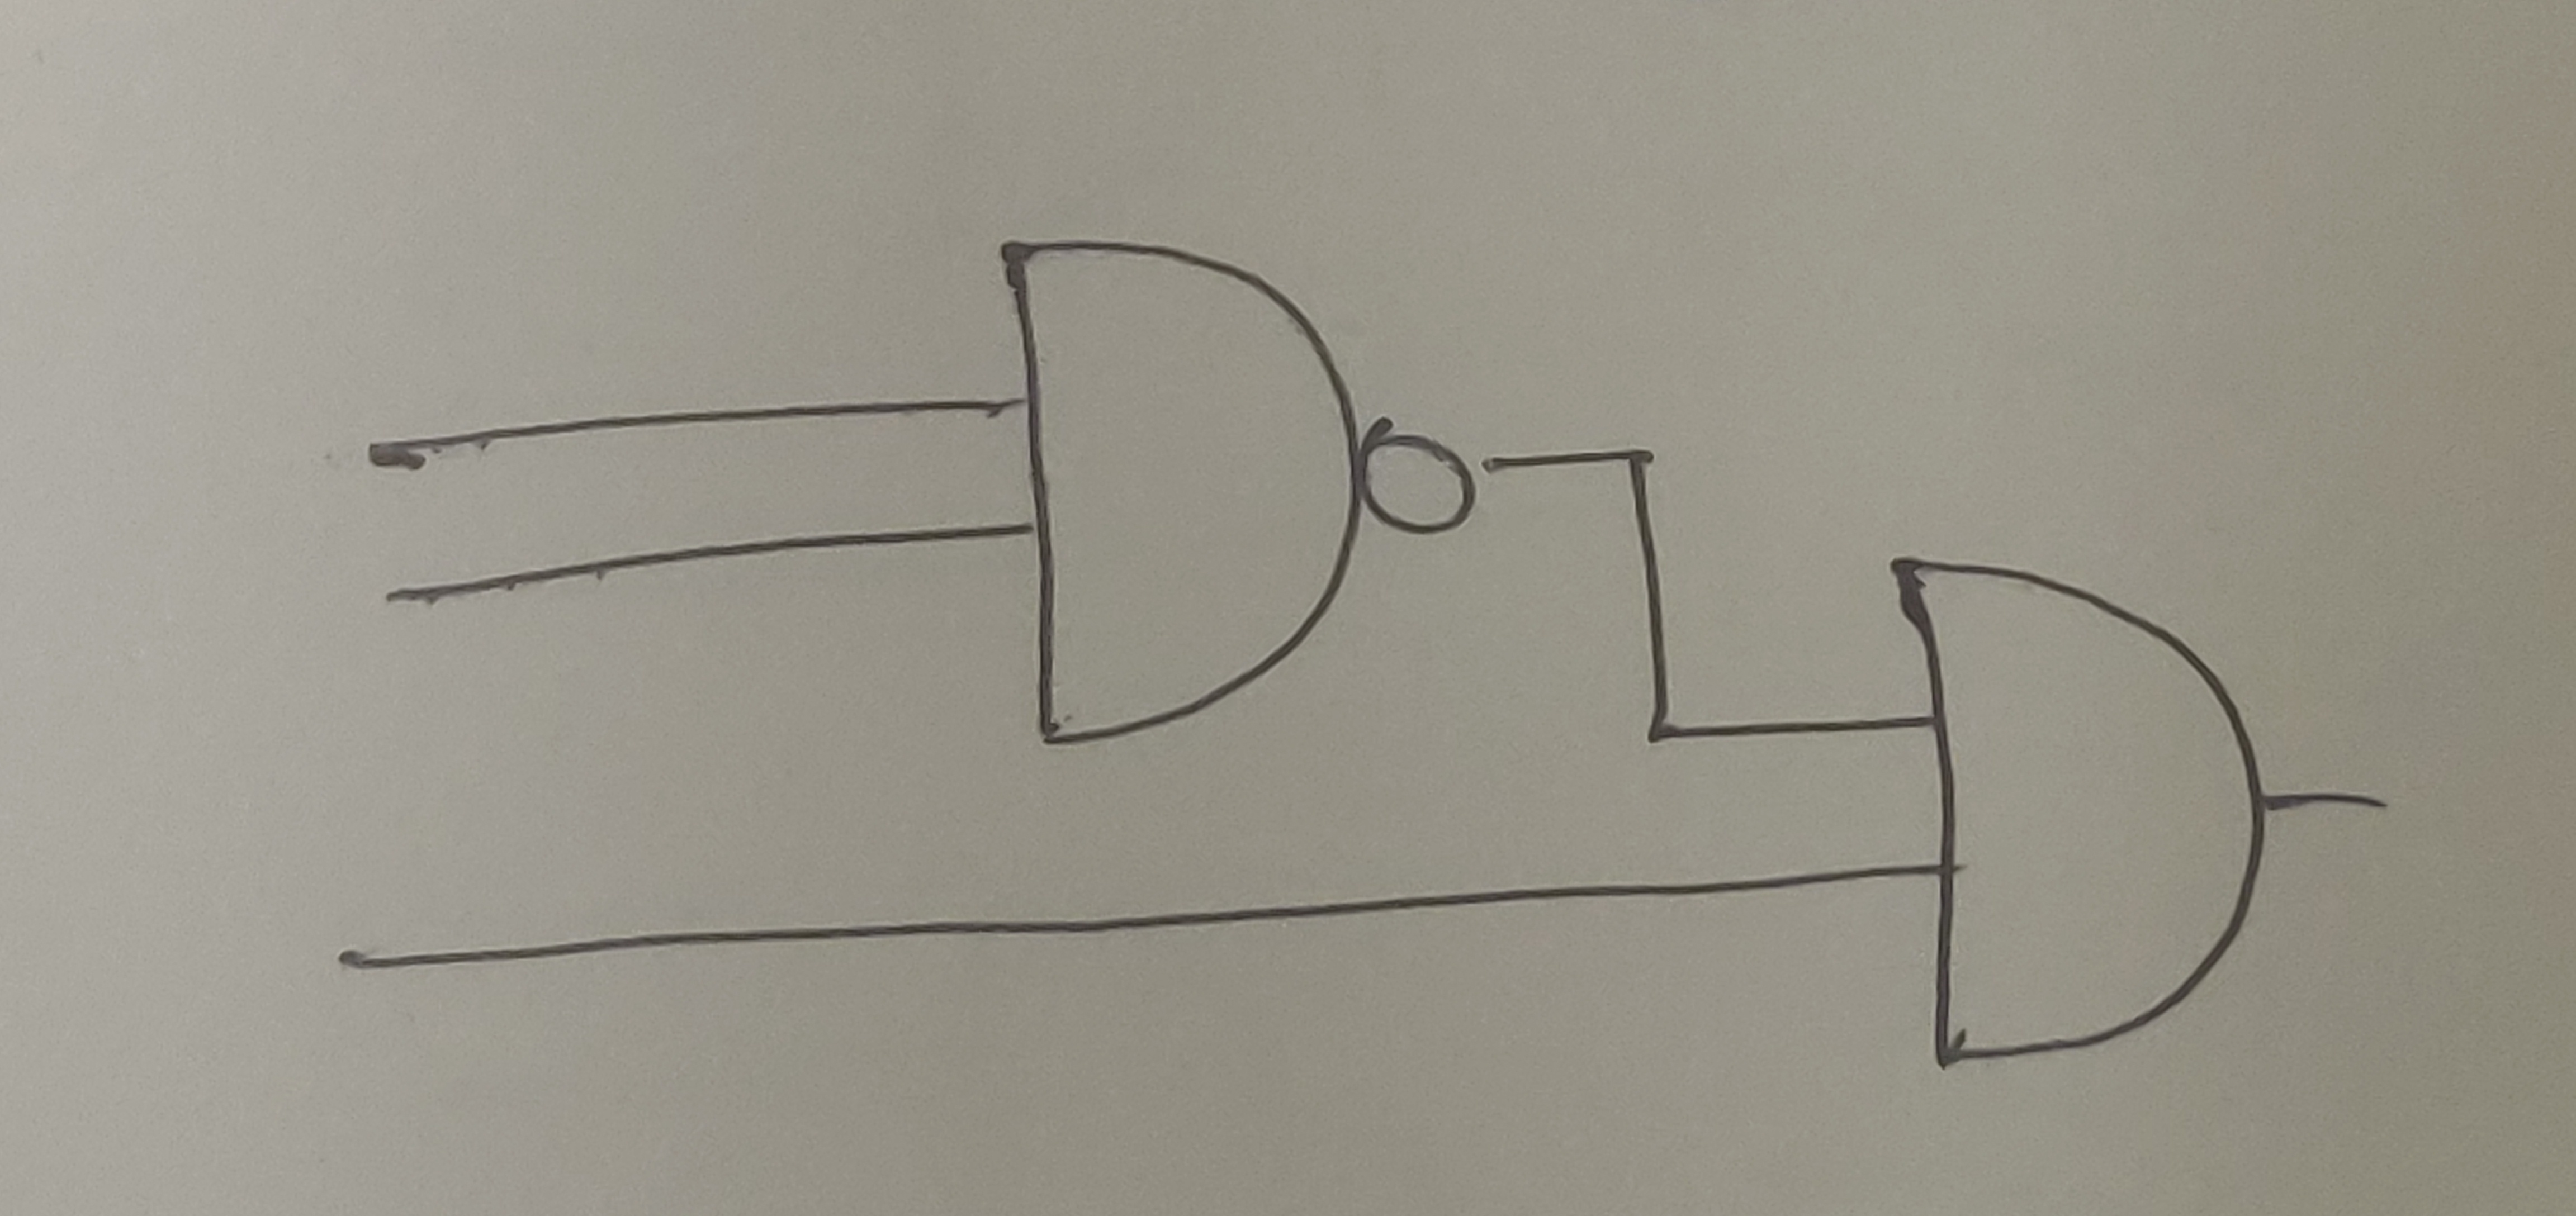and: (1879, 549, 2270, 1068), (992, 237, 1367, 746)
not: (1360, 421, 1482, 539)
